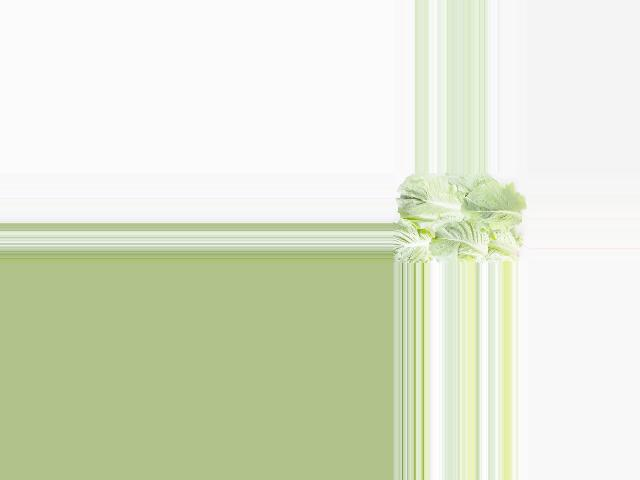lettuce: (396, 175, 523, 264)
